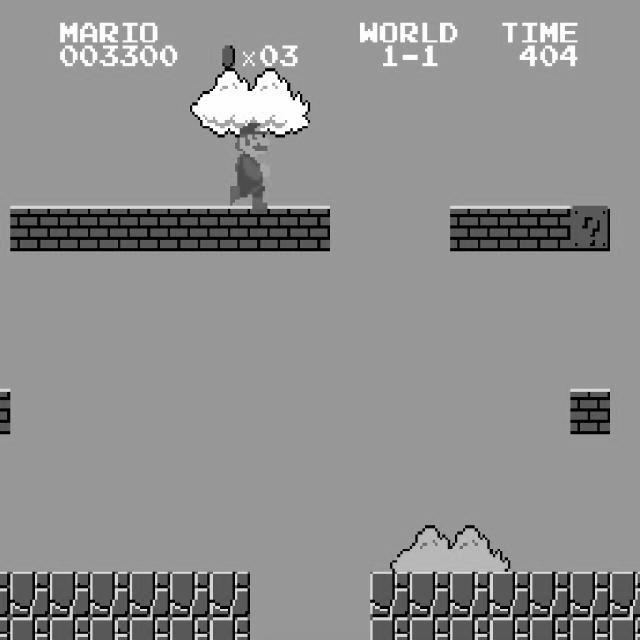0- big_mario: (228, 114, 270, 208)
1- brick_block: (570, 388, 610, 434), (10, 206, 50, 251), (50, 206, 90, 251), (90, 206, 130, 251), (130, 206, 170, 251), (170, 206, 210, 251), (210, 206, 250, 251), (250, 206, 290, 251), (290, 206, 330, 251), (450, 206, 490, 251), (490, 206, 530, 251), (530, 206, 570, 251), (0, 388, 10, 434)
13- mystery_block: (570, 206, 610, 251)
17- undestructible_block: (10, 572, 50, 618), (50, 572, 90, 618), (90, 572, 130, 618), (130, 572, 170, 618), (170, 572, 210, 618), (210, 572, 250, 618), (370, 572, 410, 618), (410, 572, 450, 618), (450, 572, 490, 618), (490, 572, 530, 618), (530, 572, 570, 618), (570, 572, 610, 618), (610, 572, 640, 618), (10, 617, 50, 640), (50, 617, 90, 640), (90, 617, 130, 640), (130, 617, 170, 640), (170, 617, 210, 640), (210, 617, 250, 640), (370, 617, 410, 640), (410, 617, 450, 640), (450, 617, 490, 640), (490, 617, 530, 640), (530, 617, 570, 640), (570, 617, 610, 640), (610, 617, 640, 640), (0, 571, 10, 617), (0, 617, 10, 639)
